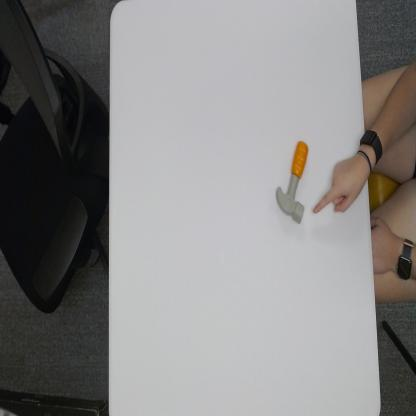Hammer: (276, 140, 309, 225)
Hand: (312, 144, 364, 219)
